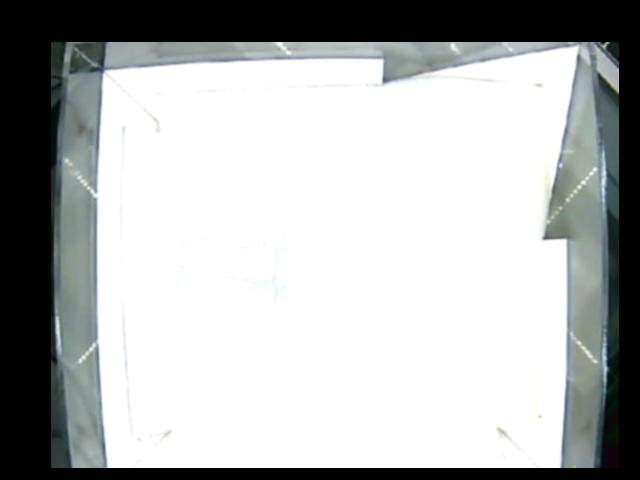Bottle: (170, 222, 328, 314)
